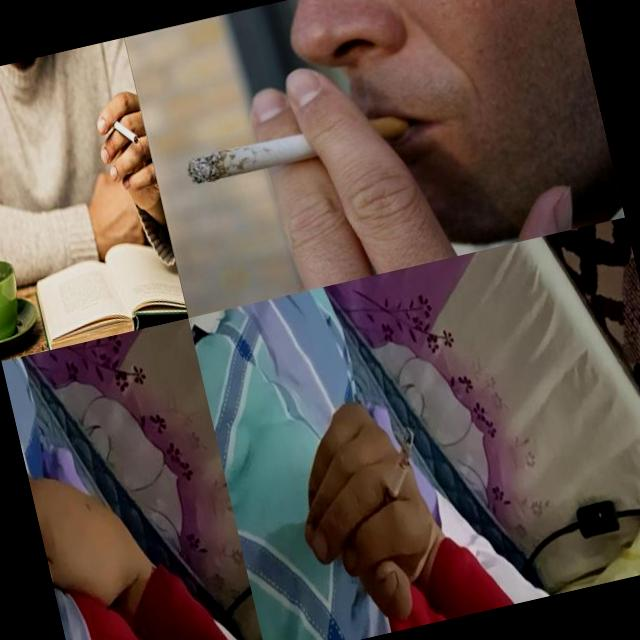smoke: (182, 105, 412, 188), (367, 426, 431, 514), (108, 110, 140, 150)
